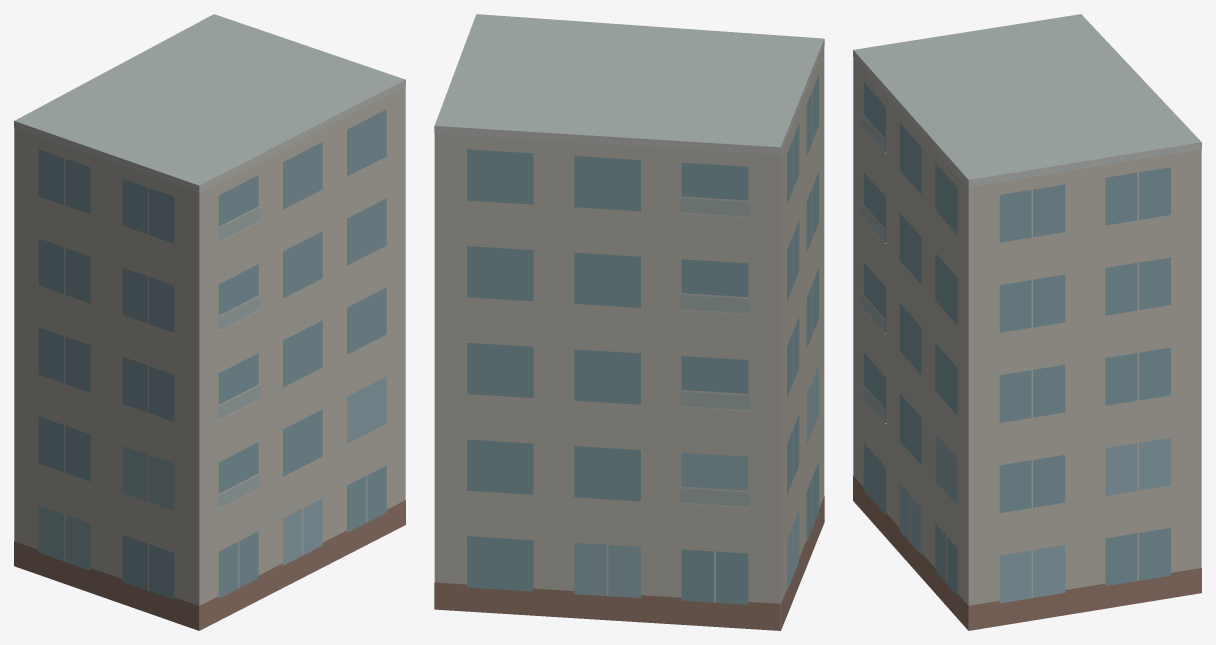
Rendered from residential-d8fcaac8-55c4-4890-82d7-d8f6ff3bb8ef.glb.
The picture shows the model from 3 angles, left to right: view 1: azimuth 30°, elevation 25°; view 2: azimuth 150°, elevation 25°; view 3: azimuth 270°, elevation 25°; orthographic projection. The views are drawn at different scales.
Visible parts, largest first — view 1: residential-d8fcaac8-55c4-4890-82d7-d8f6ff3bb8ef.tmp; view 2: residential-d8fcaac8-55c4-4890-82d7-d8f6ff3bb8ef.tmp; view 3: residential-d8fcaac8-55c4-4890-82d7-d8f6ff3bb8ef.tmp.
Boxes of the visible parts, box(x1,y1,x2,y2) form: residential-d8fcaac8-55c4-4890-82d7-d8f6ff3bb8ef.tmp: box(14, 14, 405, 630); residential-d8fcaac8-55c4-4890-82d7-d8f6ff3bb8ef.tmp: box(434, 14, 824, 630); residential-d8fcaac8-55c4-4890-82d7-d8f6ff3bb8ef.tmp: box(853, 14, 1201, 630).
Size of the model in its own units: 12.05 by 15.25 by 10.7.
